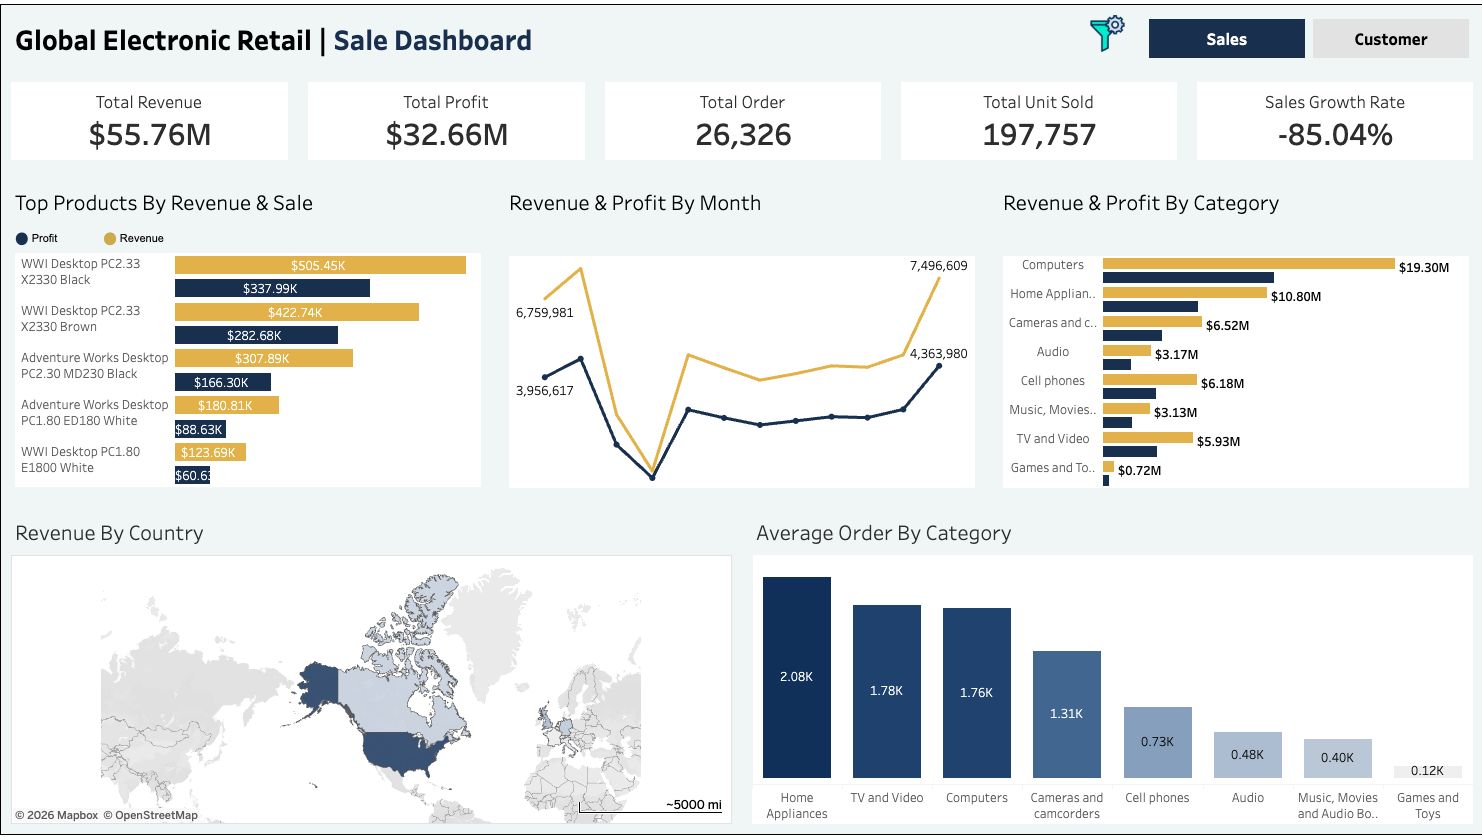

Layout of this report page (visuals, bound fields, positions):
{"tool":"tableau","page":{"name":"Sale DB","canvas":[1200,800],"ordinal":1},"visuals":[{"type":"text","box":[9,9,844,56]},{"type":"dashboard-object","box":[853,9,164,56]},{"type":"dashboard-object","box":[1017,9,164,56]},{"type":"dashboard-object","box":[799,19.5,43.1,37.8]},{"type":"image","param":"Image/icons8-filter-64.png","box":[1065,20,115,70]},{"type":"worksheet","title":"Sheet 48","mark":"Text","box":[9,65,1182,32]},{"type":"text","box":[1065,90,115,69]},{"type":"worksheet","title":"KPI_Revenue","mark":"Automatic","box":[9,97,237,98]},{"type":"worksheet","title":"KPI_Profit","mark":"Automatic","box":[246,97,237,98]},{"type":"worksheet","title":"KPI_GrossMargin","mark":"Automatic","box":[483,97,236,98]},{"type":"worksheet","title":"KPI_Orders","mark":"Automatic","box":[719,97,236,98]},{"type":"worksheet","title":"KPI_AOV","mark":"Automatic","box":[955,97,236,98]},{"type":"parameter","param":"[Parameters].[Parameter 2]","box":[1065,159,115,69]},{"type":"text","box":[9,205,384,44]},{"type":"text","box":[413,205,374,44]},{"type":"text","box":[807,205,374,44]},{"type":"text","box":[1065,228,115,69]},{"type":"worksheet","title":"Chart_Product","mark":"Automatic","rows":["product_name"],"cols":["Calculation_0643934818902020"],"box":[9,249,384,234]},{"type":"worksheet","title":"Lengend","mark":"Automatic","box":[413,249,374,32]},{"type":"worksheet","title":"Chart_Subcat1","mark":"Automatic","rows":["category"],"cols":["Calculation_0643934818861059"],"box":[807,249,374,234]},{"type":"worksheet","title":"Chart_Revenue","mark":"Line","rows":["Calculation_0288105129246761"],"cols":["Calculation_0288105105039388"],"box":[413,281,374,202]},{"type":"parameter","param":"[Parameters].[Parameter 3]","box":[1065,297,115,69]},{"type":"parameter","param":"[Parameters].[Parameter 1]","box":[1065,366,115,69]},{"type":"text","box":[1065,435,115,69]},{"type":"worksheet","title":"Chart_Country","mark":"Automatic","rows":["Calculation_0643934818861059","Calculation_0643934818861059"],"cols":["country"],"box":[9,493,591,298]},{"type":"worksheet","title":"Chart_Subcat2","mark":"Circle","rows":["category"],"cols":["Calculation_0643934819012613"],"box":[600,493,591,298]},{"type":"filter","title":"Chart_Subcat2","param":"[federated.071u9y41h0wqry1akyews10u2807].[none:category:nk]","box":[1065,504,115,69]},{"type":"text","box":[1065,573,115,69]},{"type":"filter","title":"Chart_Subcat2","param":"[federated.071u9y41h0wqry1akyews10u2807].[none:continent:nk]","box":[1065,642,115,69]},{"type":"filter","title":"Chart_Subcat2","param":"[federated.071u9y41h0wqry1akyews10u2807].[none:country:nk]","box":[1065,711,115,69]}]}

Visuals, with their boxes on the page's 1200x800 design canvas (x1, y1, x2, y2). These are canvas units, not pixel positions in the 1482x837 screenshot, which may show the page scaled, cropped or inside an application window:
text: bbox=[9, 9, 853, 65]
dashboard-object: bbox=[853, 9, 1017, 65]
dashboard-object: bbox=[1017, 9, 1181, 65]
dashboard-object: bbox=[799, 20, 842, 57]
image: bbox=[1065, 20, 1180, 90]
"Sheet 48" worksheet (Text marks): bbox=[9, 65, 1191, 97]
text: bbox=[1065, 90, 1180, 159]
"KPI_Revenue" worksheet: bbox=[9, 97, 246, 195]
"KPI_Profit" worksheet: bbox=[246, 97, 483, 195]
"KPI_GrossMargin" worksheet: bbox=[483, 97, 719, 195]
"KPI_Orders" worksheet: bbox=[719, 97, 955, 195]
"KPI_AOV" worksheet: bbox=[955, 97, 1191, 195]
parameter: bbox=[1065, 159, 1180, 228]
text: bbox=[9, 205, 393, 249]
text: bbox=[413, 205, 787, 249]
text: bbox=[807, 205, 1181, 249]
text: bbox=[1065, 228, 1180, 297]
"Chart_Product" worksheet: bbox=[9, 249, 393, 483]
"Lengend" worksheet: bbox=[413, 249, 787, 281]
"Chart_Subcat1" worksheet: bbox=[807, 249, 1181, 483]
"Chart_Revenue" worksheet (Line marks): bbox=[413, 281, 787, 483]
parameter: bbox=[1065, 297, 1180, 366]
parameter: bbox=[1065, 366, 1180, 435]
text: bbox=[1065, 435, 1180, 504]
"Chart_Country" worksheet: bbox=[9, 493, 600, 791]
"Chart_Subcat2" worksheet (Circle marks): bbox=[600, 493, 1191, 791]
"Chart_Subcat2" filter: bbox=[1065, 504, 1180, 573]
text: bbox=[1065, 573, 1180, 642]
"Chart_Subcat2" filter: bbox=[1065, 642, 1180, 711]
"Chart_Subcat2" filter: bbox=[1065, 711, 1180, 780]
